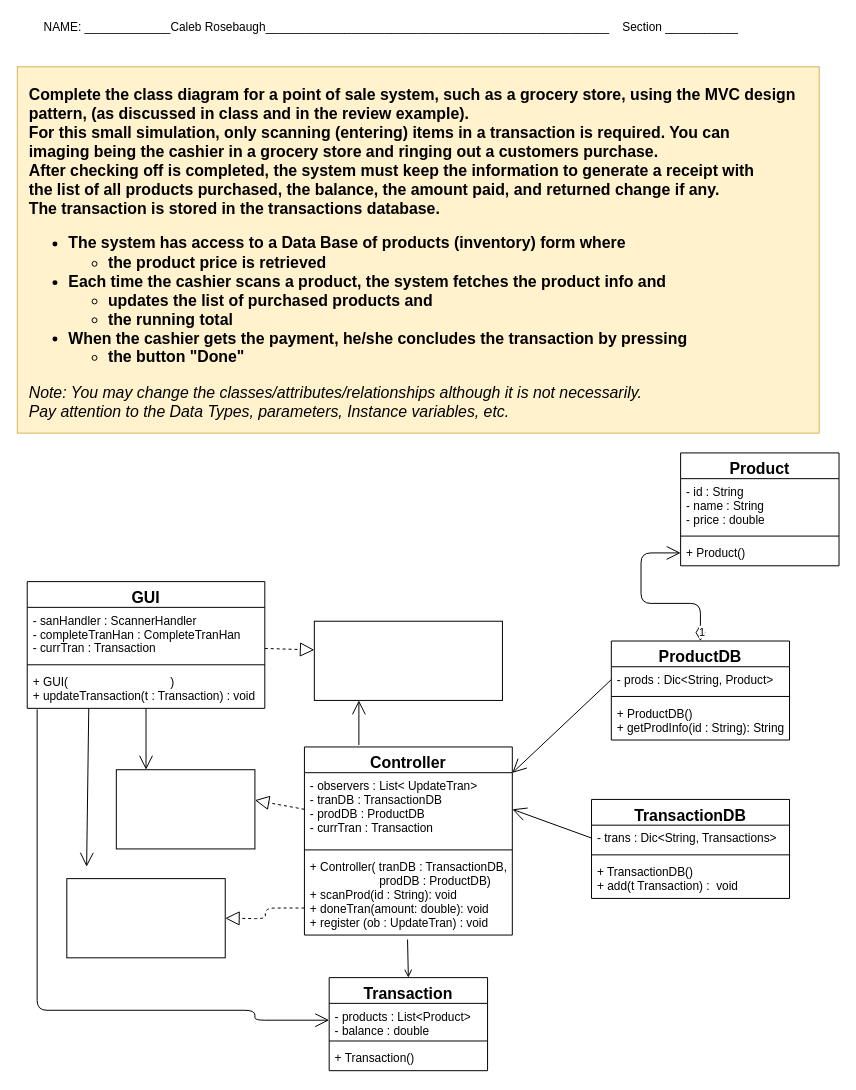
Some shapes in this 856 by 1090 pixel diagram are drawn without their labels. The centre of each missing label's shape, as x and y in pixels:
"<<delegate>> CompleteTranHan(double)" goes at [145,918].
"<<delegate>> ScannerHandler(string)" goes at [185,809].
"<<delegate>> UpdateTran(Transaction)" goes at [407,660].
